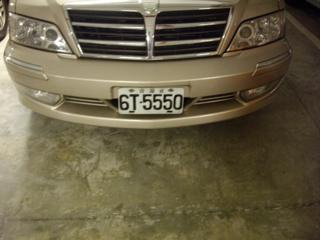plate: (117, 85, 185, 118)
